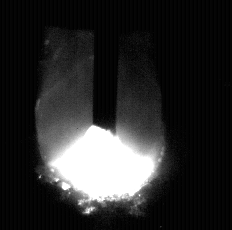arame: (93, 0, 119, 136)
poca: (37, 0, 165, 230)
